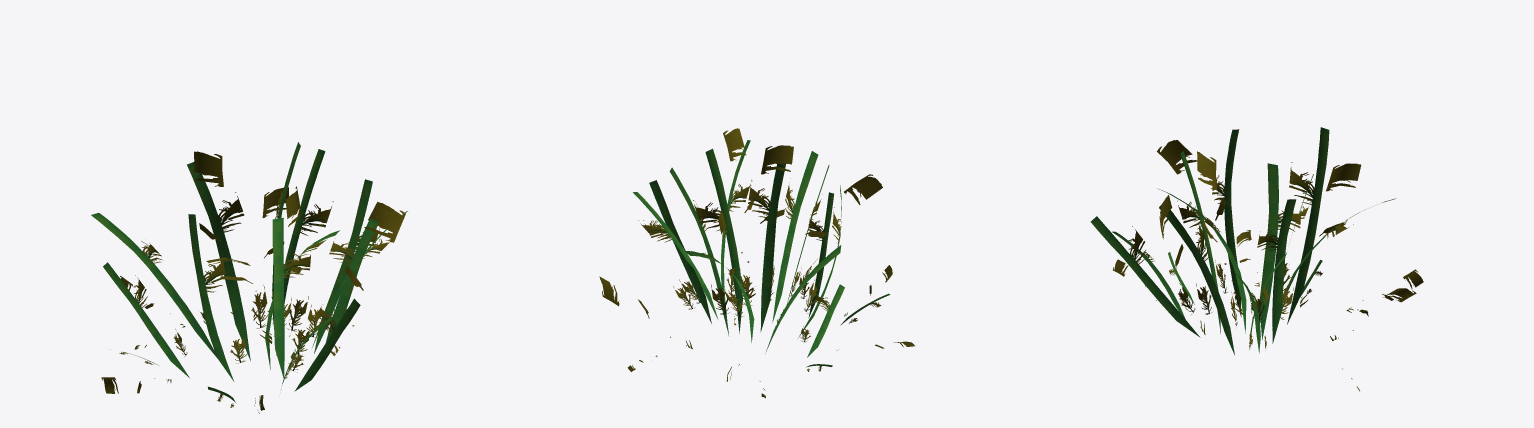
3 renders of one model, left to right at view 1: azimuth 30°, elevation 25°; view 2: azimuth 150°, elevation 25°; view 3: azimuth 270°, elevation 25°, orthographic. The views are drawn at different scales.
Parts seen in each view (by area): view 1: SM_BM_GrassLongSeeded_02_LOD0; view 2: SM_BM_GrassLongSeeded_02_LOD0; view 3: SM_BM_GrassLongSeeded_02_LOD0.
Part boxes in pixels (x1=…): SM_BM_GrassLongSeeded_02_LOD0: x1=91, y1=142, x2=407, y2=413; SM_BM_GrassLongSeeded_02_LOD0: x1=599, y1=128, x2=914, y2=398; SM_BM_GrassLongSeeded_02_LOD0: x1=1090, y1=127, x2=1423, y2=391.
Bounding box in the file's own units: 1.06 × 0.8306 × 1.1.
